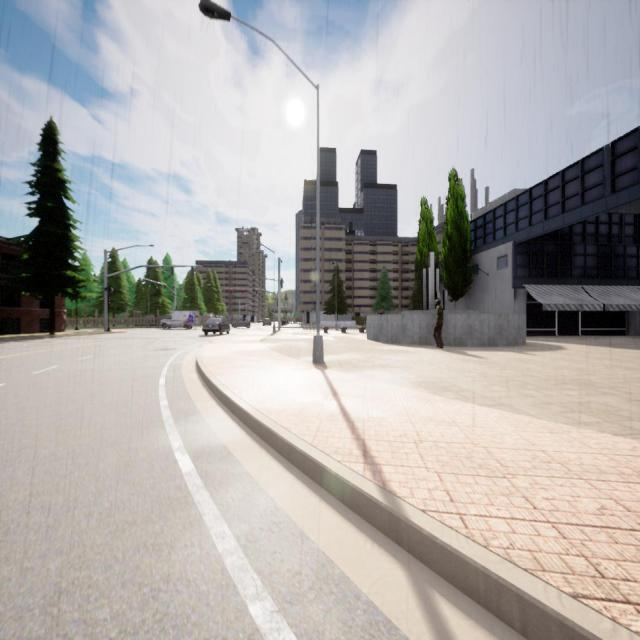Pedestrian: (433, 298, 444, 350)
Vehicle: (160, 310, 194, 331), (202, 316, 230, 336), (232, 316, 250, 328), (262, 318, 271, 326)
traffic_light: (147, 267, 150, 277), (191, 267, 194, 276), (156, 284, 159, 290), (163, 285, 166, 291), (149, 281, 151, 289), (171, 267, 173, 275), (276, 298, 278, 306), (230, 288, 232, 294), (242, 288, 244, 294), (256, 288, 258, 294), (176, 305, 177, 310)
